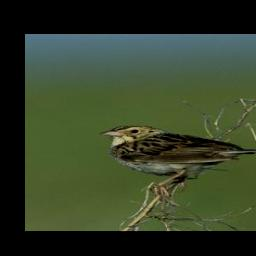Sparrow: (90, 121, 256, 200)
